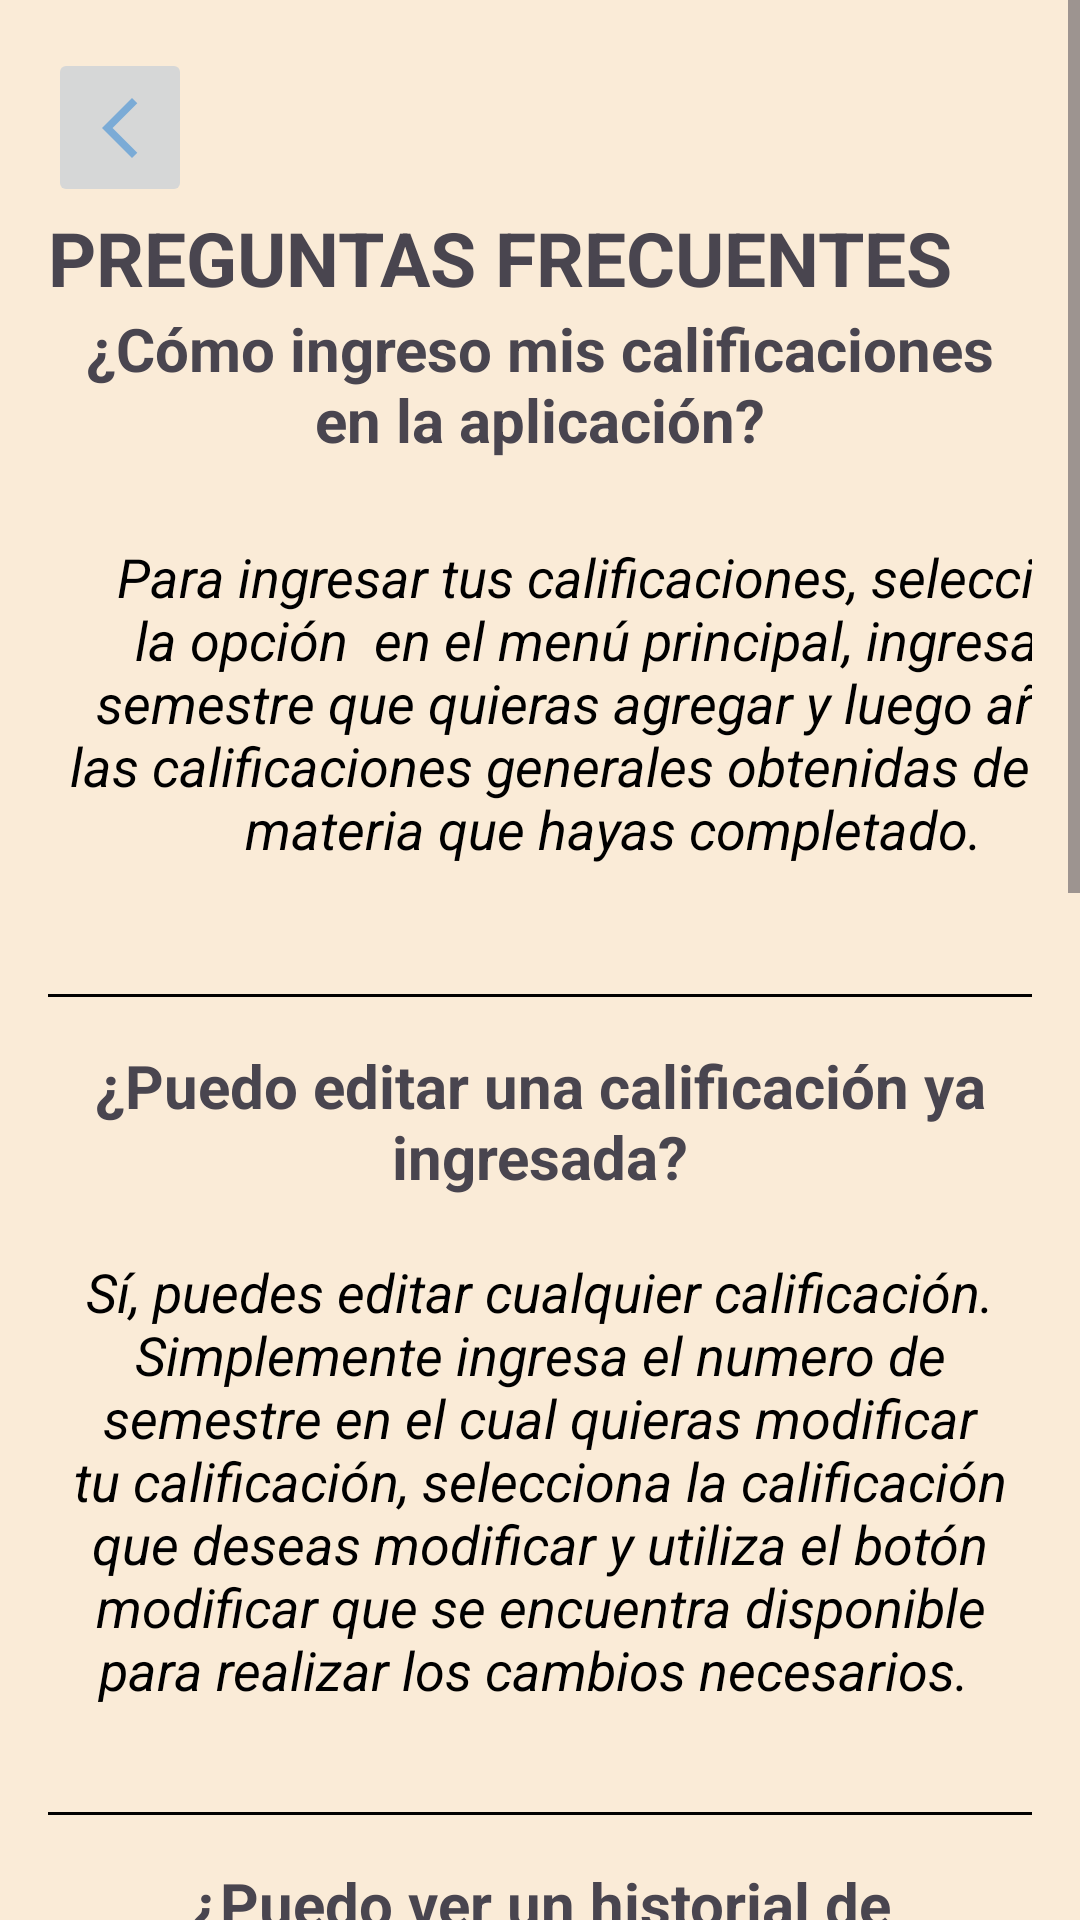

Named icons in this screenshot (1080 × 1920) and their bounding boxes, Rect(x1, y1, x2, y2):
arrow back: Rect(60, 66, 180, 189)
